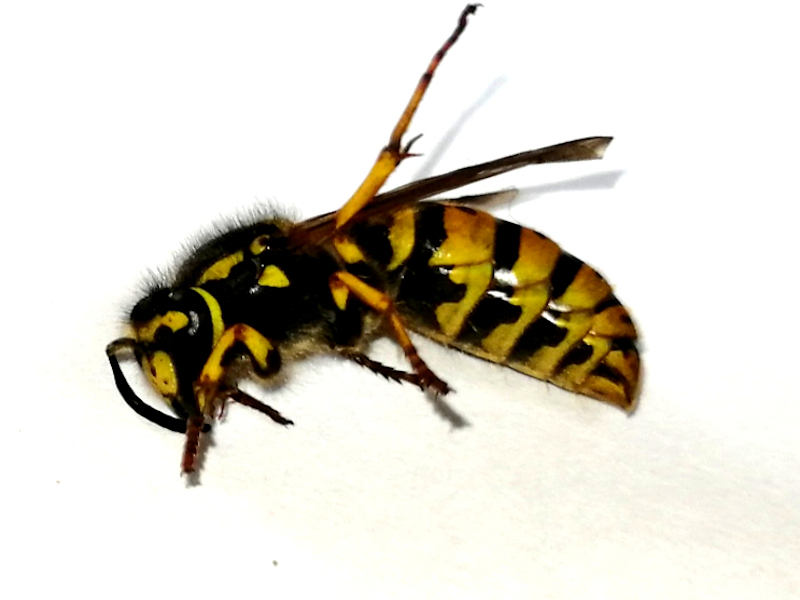chax: (96, 1, 656, 480)
